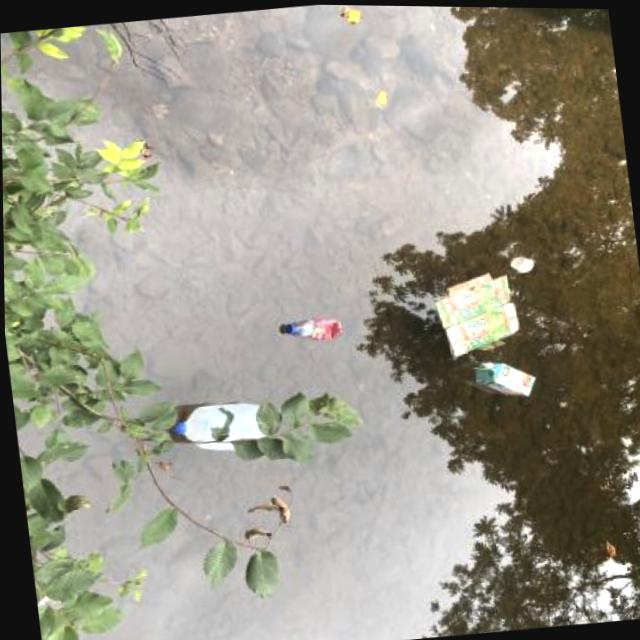Cardboard: (423, 263, 527, 367), (471, 351, 541, 401)
Paper: (504, 247, 542, 278)
Plastic: (159, 386, 284, 460), (276, 305, 349, 348)
